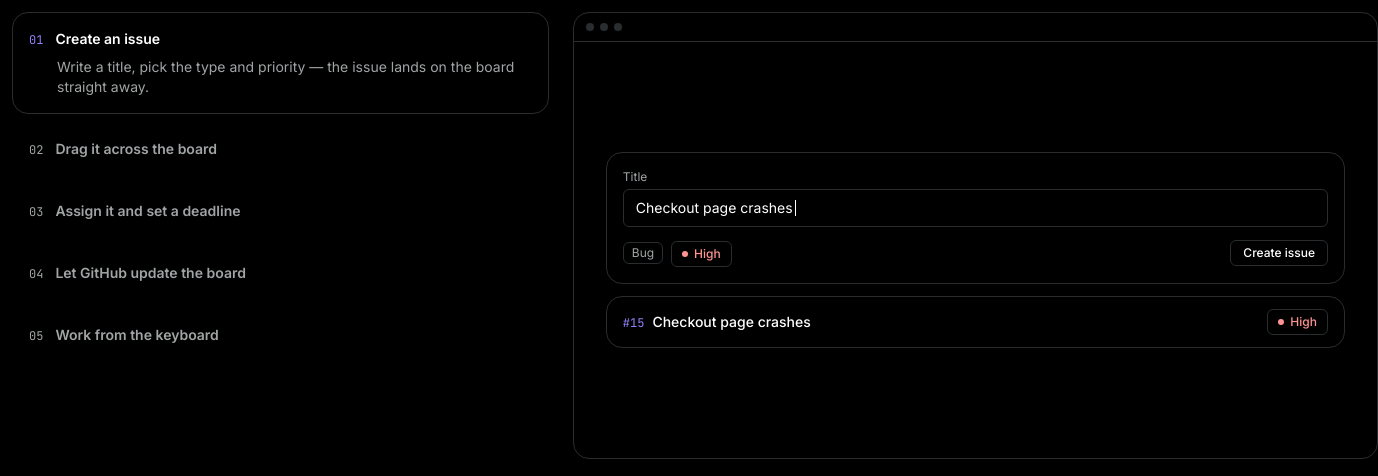
Test case: ProductTour › switches step on click and only the active step shows its text
Click the tab "04 Let GitHub update the board": click(151, 272) [12,246,549,300]
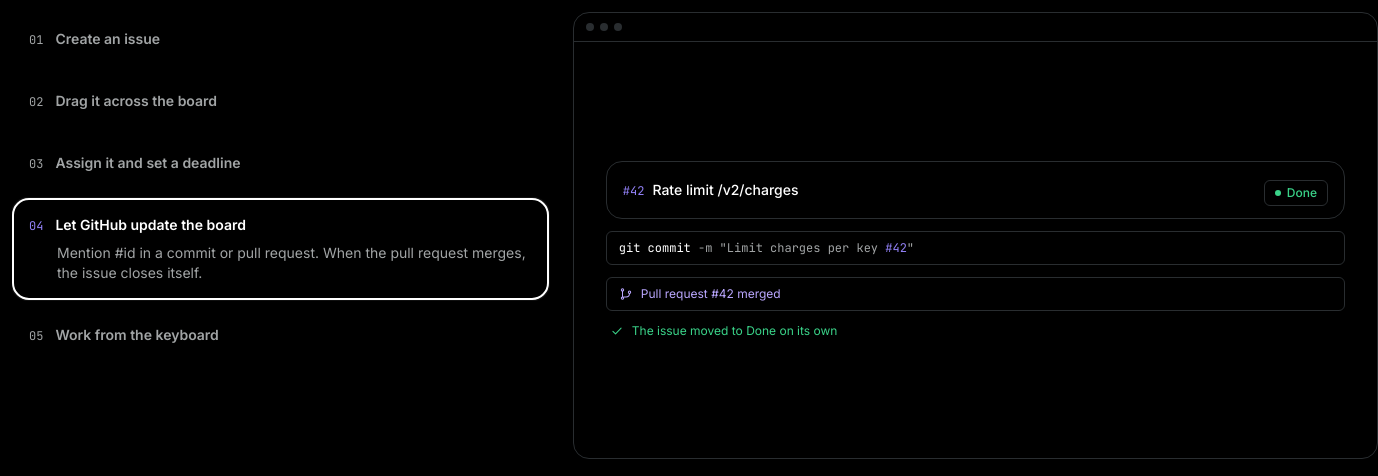
Check: the text "When the pull request merges, the issue closes itself" is shown, box [57,244,526,281]
Check: the text "the issue lands on the board straight away" is gone
